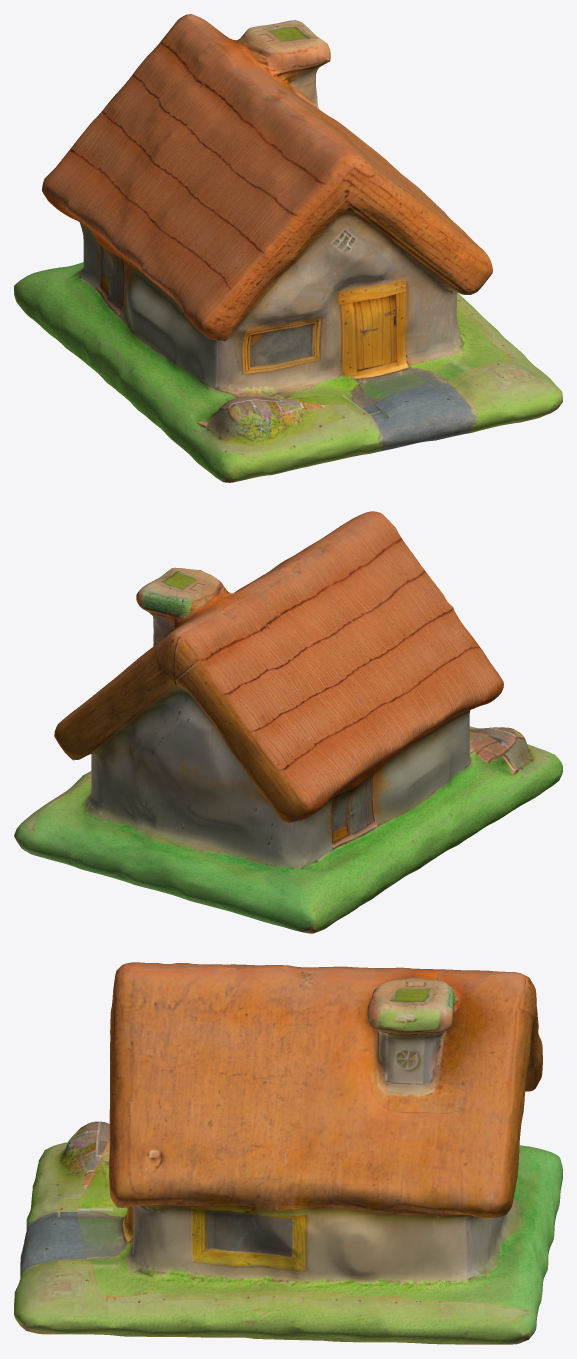
The model's file is house.glb.
3 views of the same model, one above another, from view 1: azimuth 30°, elevation 25°; view 2: azimuth 150°, elevation 25°; view 3: azimuth 270°, elevation 25° (orthographic). The views are drawn at different scales.
Size of the model in its own units: 0.9726 by 0.7503 by 1.2.
1 material, 1 textured.
